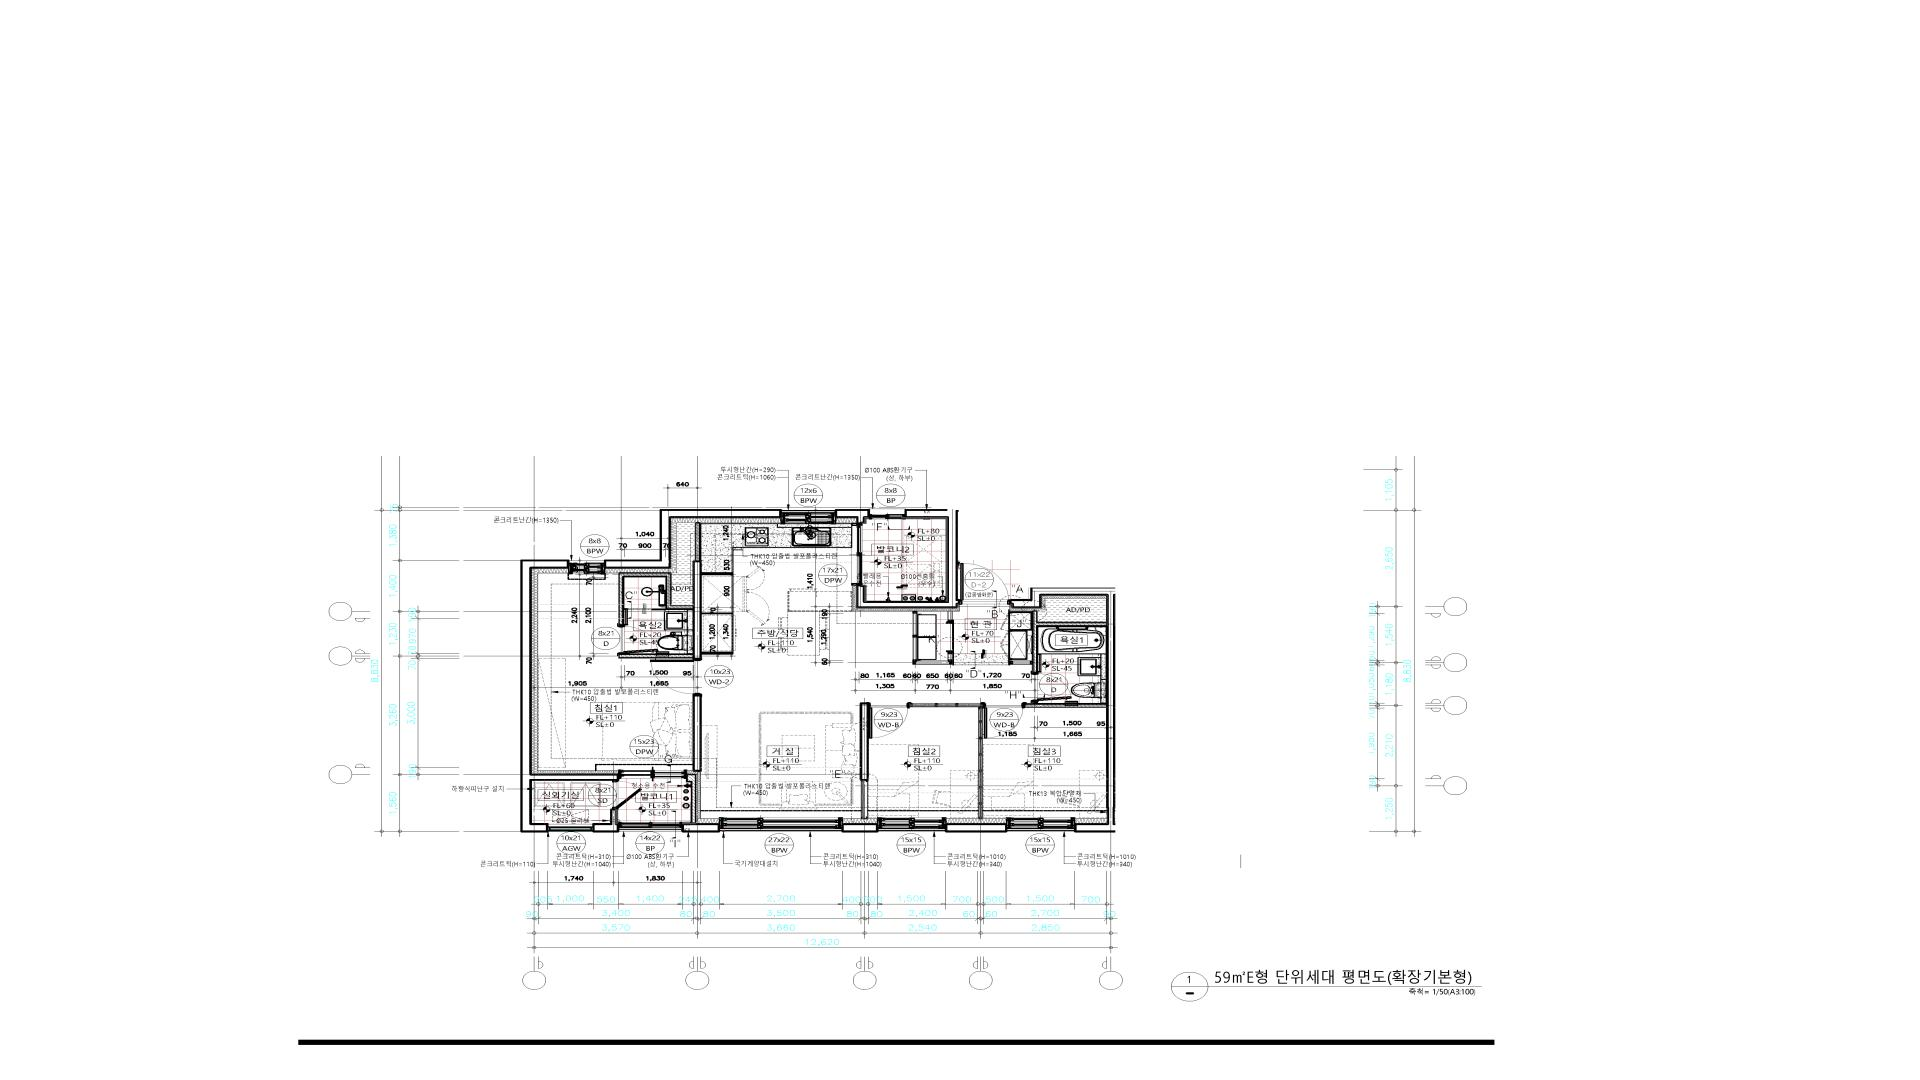background: (1, 0, 1920, 1080)
door: (960, 563, 1010, 607), (650, 659, 702, 696), (984, 702, 1026, 738), (869, 702, 910, 738), (1031, 673, 1072, 703), (617, 625, 658, 653), (612, 781, 642, 808)
wall: (520, 559, 620, 832), (1010, 588, 1116, 832), (618, 522, 733, 658), (856, 509, 960, 609), (605, 509, 781, 568), (910, 703, 984, 819), (1010, 611, 1106, 673), (913, 611, 953, 665), (860, 703, 869, 819), (692, 696, 702, 771), (592, 808, 620, 832), (947, 823, 1006, 833), (686, 774, 696, 823), (836, 509, 869, 522), (1025, 703, 1106, 708), (682, 823, 719, 832), (843, 823, 877, 832), (948, 611, 953, 621)
window: (719, 818, 843, 832), (878, 818, 947, 833), (1006, 818, 1075, 832), (781, 509, 836, 525), (851, 524, 862, 585), (620, 822, 682, 832), (620, 770, 686, 779), (568, 559, 605, 575), (869, 509, 906, 520), (549, 824, 592, 832)
